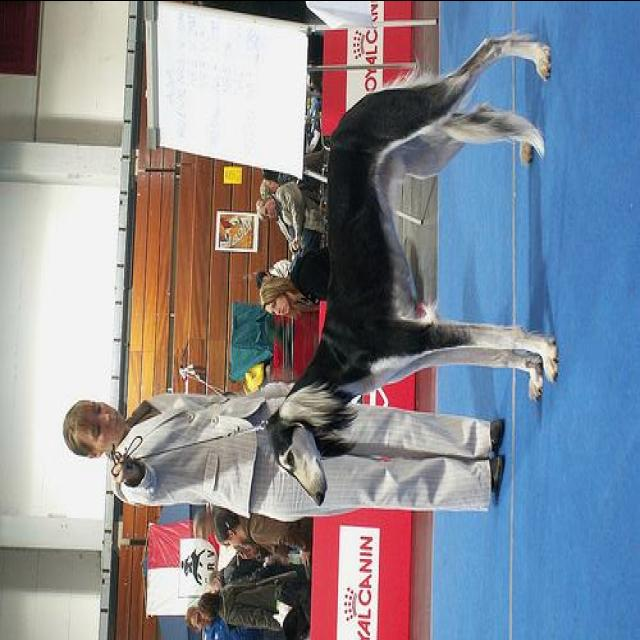saluki: (264, 29, 556, 507)
